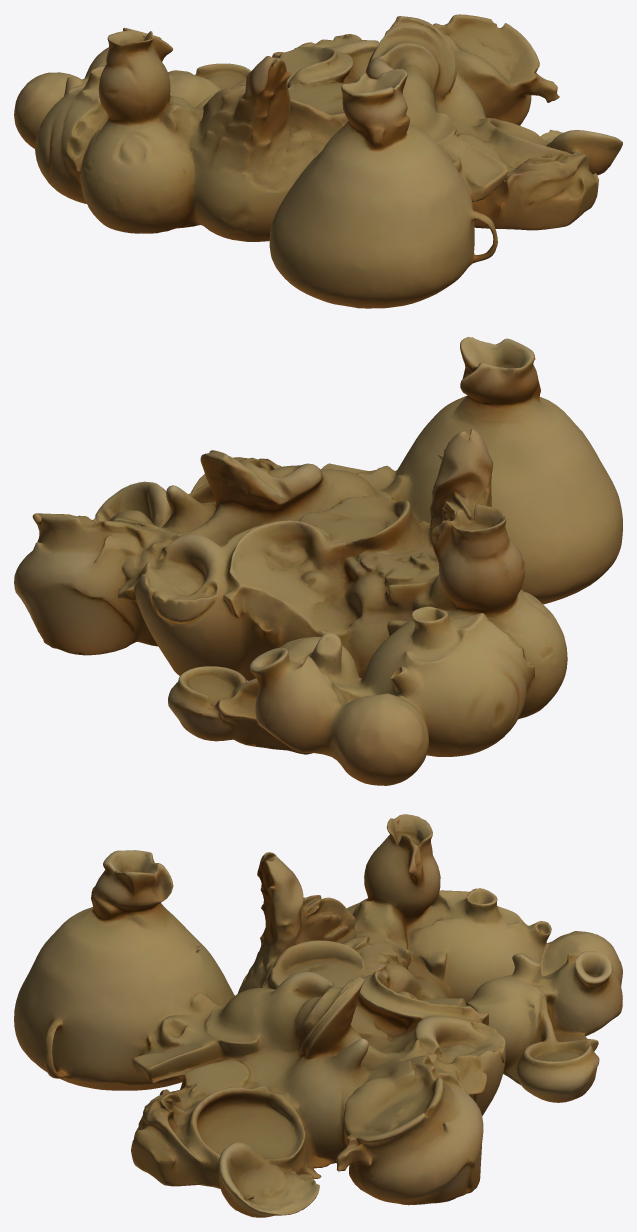
File: dulusculuq.glb
3 views of the same model, one above another, from view 1: azimuth 30°, elevation 25°; view 2: azimuth 150°, elevation 25°; view 3: azimuth 270°, elevation 25° (orthographic). The views are drawn at different scales.
Visible parts, largest first — view 1: tripo_node_7348f69d-7aed-4477-b4fc-aa064d857304; view 2: tripo_node_7348f69d-7aed-4477-b4fc-aa064d857304; view 3: tripo_node_7348f69d-7aed-4477-b4fc-aa064d857304.
Boxes of the visible parts, <box> form: tripo_node_7348f69d-7aed-4477-b4fc-aa064d857304: <box>14,14,622,308</box>; tripo_node_7348f69d-7aed-4477-b4fc-aa064d857304: <box>14,337,622,785</box>; tripo_node_7348f69d-7aed-4477-b4fc-aa064d857304: <box>14,814,622,1217</box>.
Bounding box in the file's own units: 0.949 × 0.3926 × 0.9998.
1 material, 1 textured.
